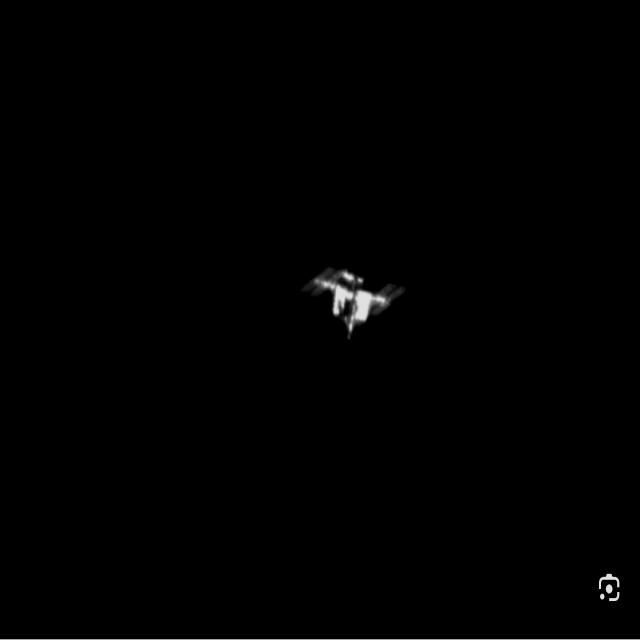medium_debris: (299, 267, 408, 339)
